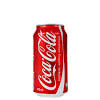coca_cola_can: (33, 23, 69, 96)
